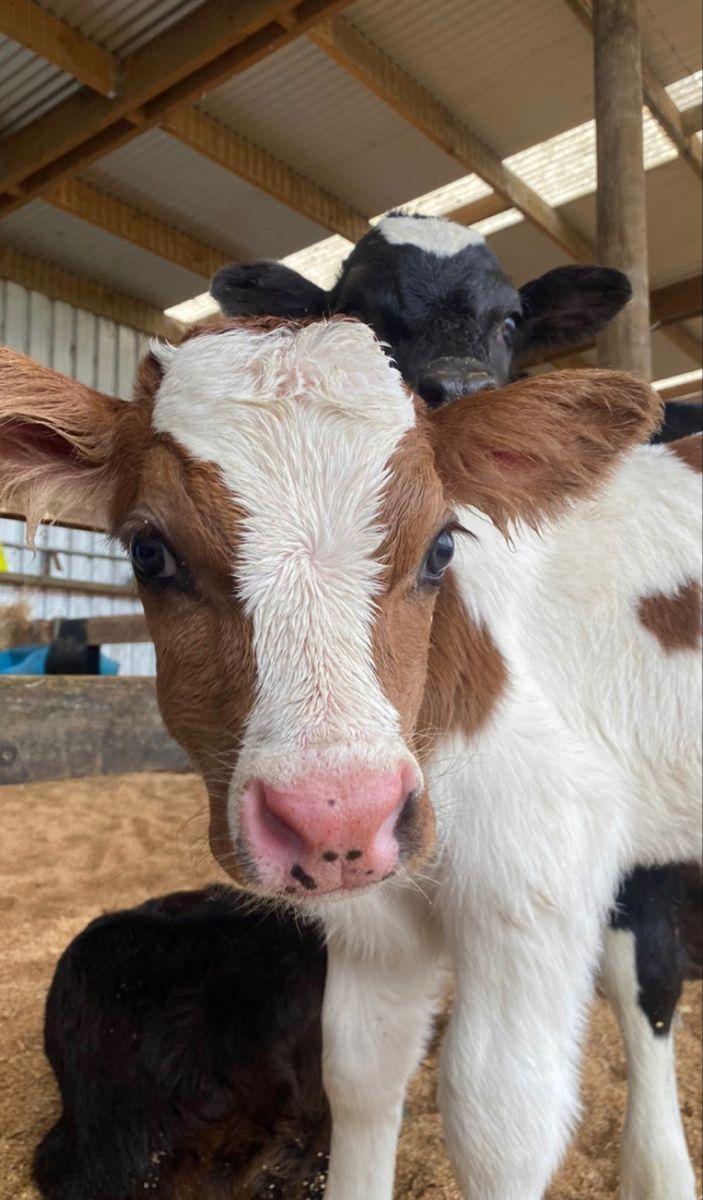cow: (47, 170, 677, 1060)
